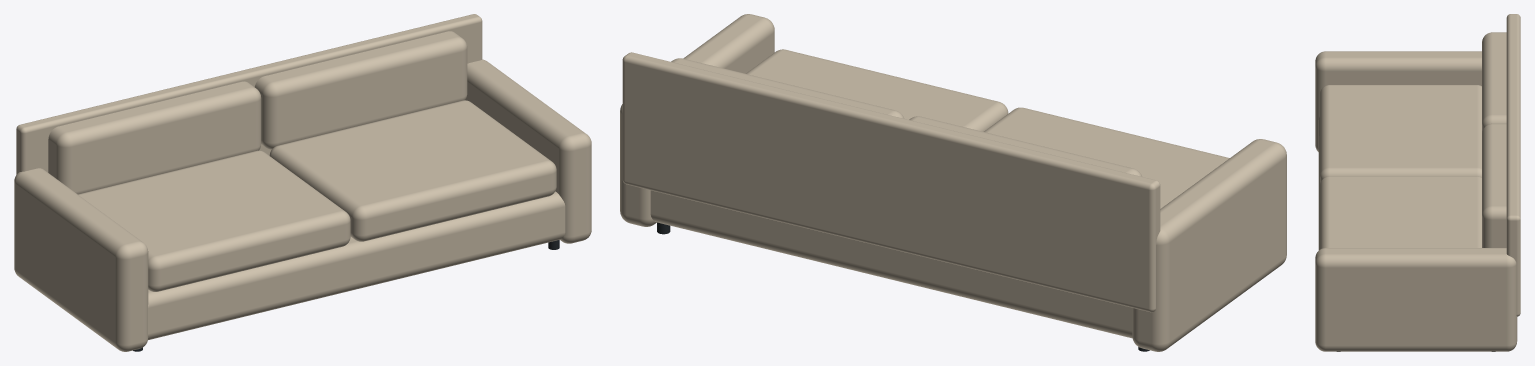
The model's file is sofa-3.glb.
The picture shows the model from 3 angles, left to right: view 1: azimuth 30°, elevation 25°; view 2: azimuth 150°, elevation 25°; view 3: azimuth 270°, elevation 25°; orthographic projection. The views are drawn at different scales.
Visible parts, largest first — view 1: sofa:3:archviz; view 2: sofa:3:archviz; view 3: sofa:3:archviz.
Boxes of the visible parts, x1,y1,x2,y2 form: sofa:3:archviz: (14,14,591,351); sofa:3:archviz: (620,14,1286,351); sofa:3:archviz: (1315,14,1520,351).
Bounding box in the file's own units: 2.12 × 0.67 × 0.875.
